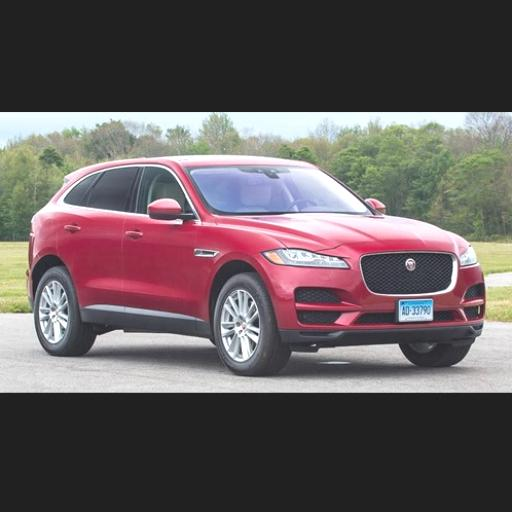suv: (28, 156, 484, 375)
